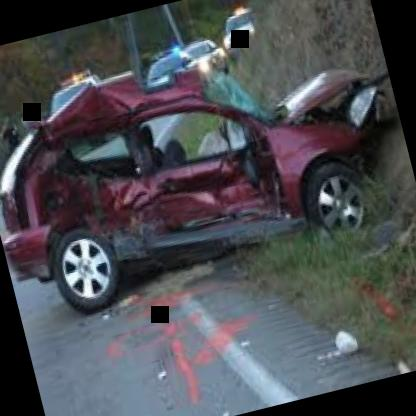accident: (0, 6, 416, 329)
